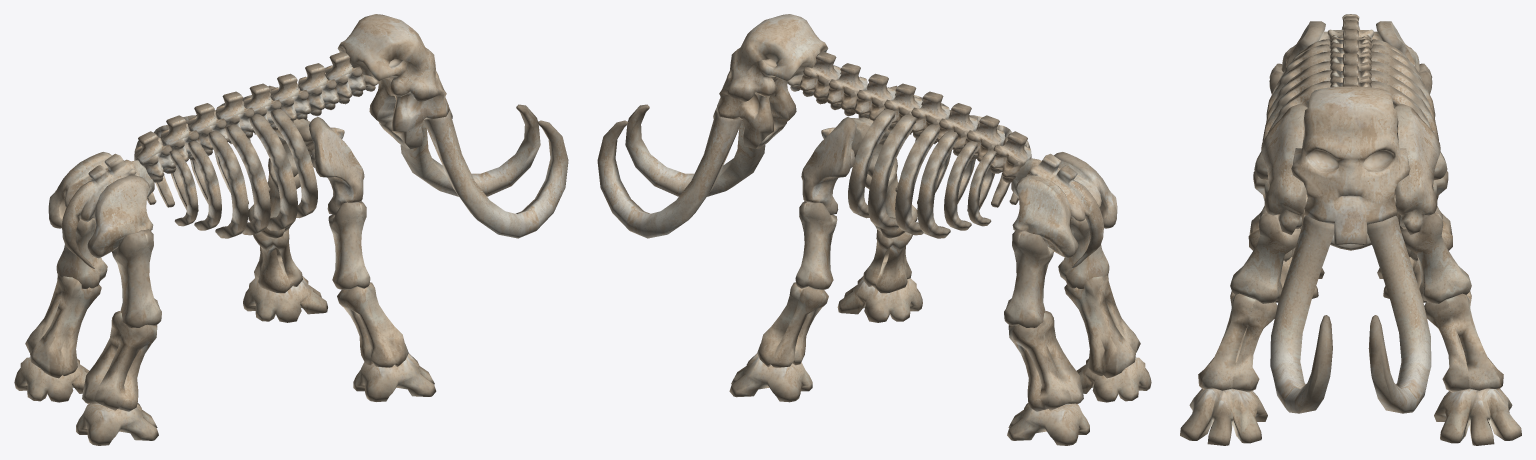
Rendered from Мамонт.glb.
3 renders of one model, left to right at view 1: azimuth 30°, elevation 25°; view 2: azimuth 150°, elevation 25°; view 3: azimuth 270°, elevation 25°, orthographic. The views are drawn at different scales.
Visible parts, largest first — view 1: Череп, Таз, Бивень, Кость.002, Кость.004, Бивень.001, Кость.006, Кость.001, Лопатка, Кость.005, Ступня.003, Ступня.002 (+19 smaller); view 2: Череп, Таз, Бивень.001, Кость.004, Кость.002, Бивень, Кость.008, Кость.003, Лопатка.001, Кость.007, Ступня.002, Ступня.003 (+19 smaller); view 3: Череп, Бивень, Бивень.001, Кость.008, Кость.006, Лопатка.001, Лопатка, Ступня.002, Ступня.003, Кость.007, Кость.005, Таз (+18 smaller).
Boxes of the visible parts, <box> form: Череп: <box>337,14,452,149</box>; Таз: <box>48,152,154,268</box>; Бивень: <box>424,112,568,238</box>; Кость.002: <box>82,311,157,411</box>; Кость.004: <box>25,274,101,378</box>; Бивень.001: <box>400,104,540,196</box>; Кость.006: <box>337,282,408,367</box>; Кость.001: <box>112,229,161,327</box>; Лопатка: <box>309,117,364,214</box>; Кость.005: <box>328,201,370,290</box>; Ступня.003: <box>243,276,327,322</box>; Ступня.002: <box>353,353,436,401</box>; Череп: <box>713,14,828,149</box>; Таз: <box>1011,152,1117,268</box>; Бивень.001: <box>597,112,741,238</box>; Кость.004: <box>1008,311,1083,411</box>; Кость.002: <box>1064,274,1140,378</box>; Бивень: <box>625,104,765,196</box>; Кость.008: <box>757,282,828,367</box>; Кость.003: <box>1004,229,1053,327</box>; Лопатка.001: <box>801,117,856,214</box>; Кость.007: <box>795,201,837,290</box>; Ступня.002: <box>837,276,922,322</box>; Ступня.003: <box>729,353,812,402</box>; Череп: <box>1291,86,1410,250</box>; Бивень: <box>1270,215,1334,413</box>; Бивень.001: <box>1367,215,1431,413</box>; Кость.008: <box>1424,291,1503,392</box>; Кость.006: <box>1198,291,1277,392</box>; Лопатка.001: <box>1394,104,1440,234</box>; Лопатка: <box>1261,104,1307,234</box>; Ступня.002: <box>1180,388,1267,445</box>; Ступня.003: <box>1434,388,1521,445</box>; Кость.007: <box>1401,207,1471,303</box>; Кость.005: <box>1230,207,1300,303</box>; Таз: <box>1281,14,1419,71</box>.
Size of the model in its own units: 1.02 by 0.6067 by 0.5209.
Materials: 1 (1 with a texture image).
